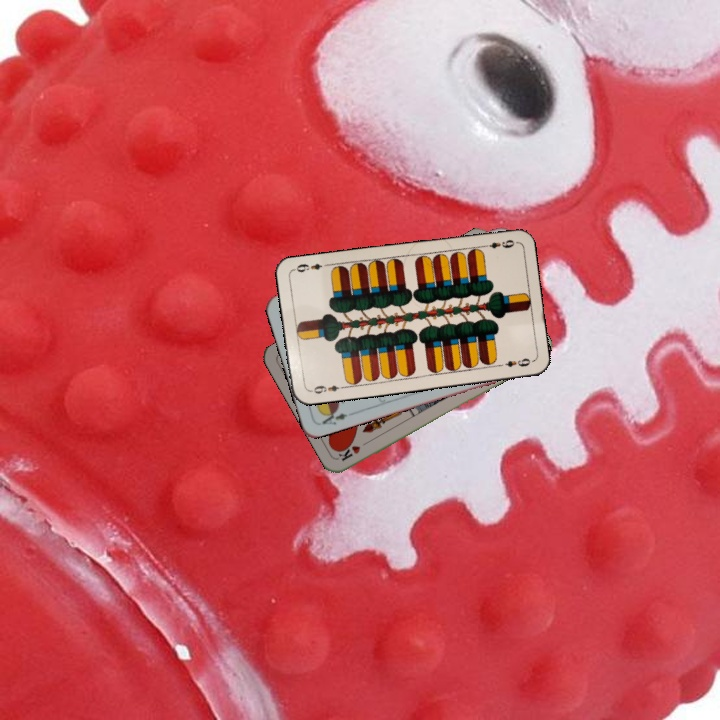E9: (306, 381, 346, 396), (477, 236, 517, 251)
EA: (318, 406, 350, 427)
HK: (334, 436, 373, 464)
